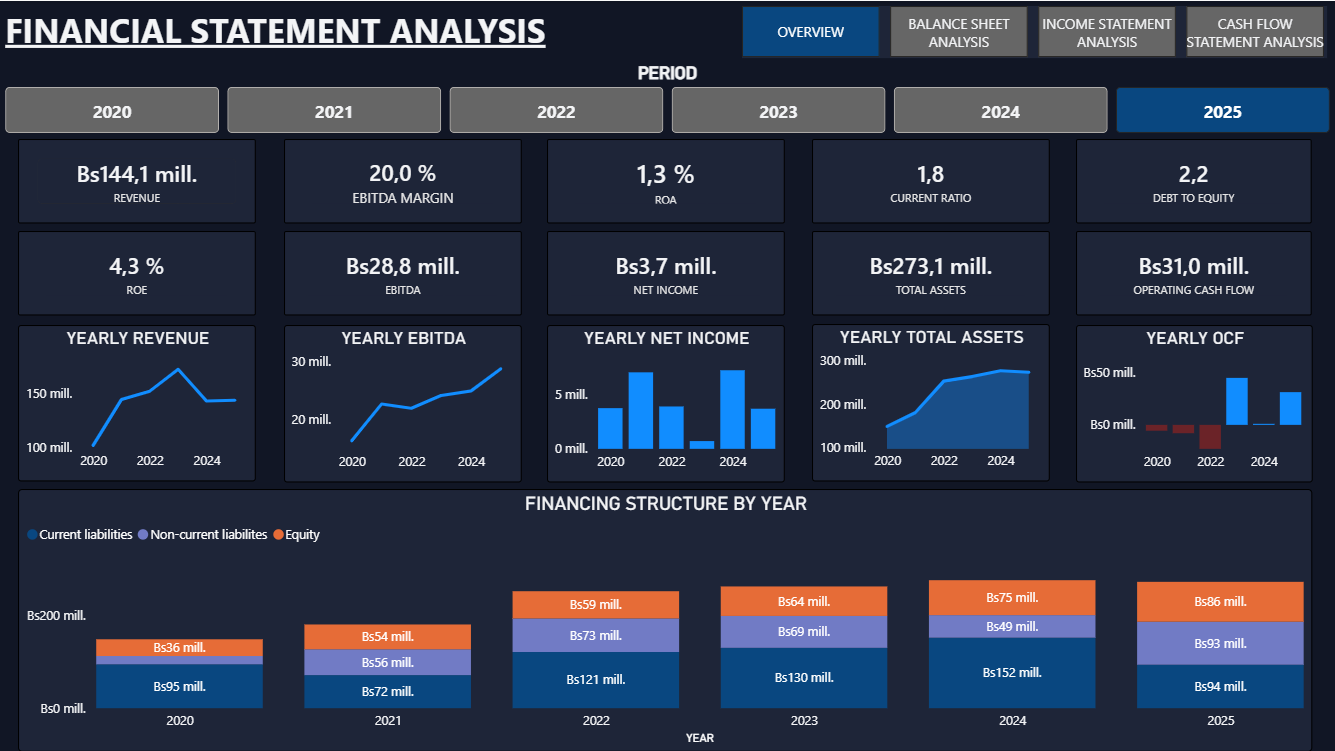

This screenshot's page, from the dashboard's own definition file:
{"tool":"powerbi","page":{"name":"OVERVIEW","canvas":[1280,720],"ordinal":0},"visuals":[{"type":"cardVisual","fields":{"Data":["MEDIDAS.IngresosOP"]},"box":[17.3,132.3,228.2,81.5],"z":0},{"type":"cardVisual","fields":{"Data":["MEDIDAS.EBITDA"]},"box":[272.3,220.5,228.2,81.5],"z":1000},{"type":"cardVisual","fields":{"Data":["MEDIDAS.Resultado Neto"]},"box":[524.5,220.5,228.2,81.5],"z":2000},{"type":"cardVisual","fields":{"Data":["MEDIDAS.Total Activo"]},"box":[778.5,220.5,228.2,81.5],"z":3000},{"type":"cardVisual","fields":{"Data":["DimCategoria.Operating cash flow"]},"box":[1031.7,220.5,226.3,81.5],"z":4000},{"type":"lineChart","title":"YEARLY REVENUE","fields":{"Category":["DimFecha.Año"],"Y":["MEDIDAS.IngresosOP"]},"box":[17.3,310.7,227.9,149.9],"z":5000},{"type":"lineChart","title":"YEARLY EBITDA","fields":{"Category":["DimFecha.Año"],"Y":["MEDIDAS.EBITDA"]},"box":[272.3,310.7,227.9,150.7],"z":6000},{"type":"clusteredColumnChart","title":"YEARLY NET INCOME","fields":{"Category":["DimFecha.Año"],"Y":["MEDIDAS.Resultado Neto"]},"box":[524.5,310.7,227.9,150.7],"z":7000},{"type":"areaChart","title":"YEARLY TOTAL ASSETS","fields":{"Category":["DimFecha.Año"],"Y":["MEDIDAS.Total Activo"]},"box":[778.5,309.7,227.9,150.7],"z":8000},{"type":"clusteredColumnChart","title":"YEARLY OCF","fields":{"Category":["DimFecha.Año"],"Y":["DimCategoria.Operating cash flow"]},"box":[1031.7,310.7,227,150.7],"z":9000},{"type":"columnChart","title":"FINANCING STRUCTURE BY YEAR","fields":{"Category":["DimFecha.Año"],"Y":["MEDIDAS.Current liabilities","MEDIDAS.Non-current liabilites","MEDIDAS.Equity"]},"box":[17.3,467.9,1240.7,252.2],"z":10000},{"type":"textbox","box":[0,0,532,58.5],"z":11000},{"type":"cardVisual","fields":{"Data":["MEDIDAS.Razón corriente"]},"box":[778.5,132.3,228.2,81.5],"z":12000},{"type":"cardVisual","fields":{"Data":["MEDIDAS.ROE"]},"box":[17.3,220.5,228.2,81.5],"z":13000},{"type":"cardVisual","fields":{"Data":["MEDIDAS.ROA"]},"box":[524.5,132.3,228.2,81.5],"z":14000},{"type":"cardVisual","fields":{"Data":["MEDIDAS.Margen EBITDA"]},"box":[272.3,132.3,228.2,81.5],"z":15000},{"type":"cardVisual","fields":{"Data":["MEDIDAS.Apalancamiento"]},"box":[1031.7,132.3,226.3,81.5],"z":16000},{"type":"advancedSlicerVisual","title":"PERIOD","fields":{"Values":["DimFecha.Año"]},"box":[0,58.8,1280,73.5],"z":17000},{"type":"pageNavigator","box":[711.4,4.8,560.9,49.9],"z":18000}]}

Visuals, with their boxes in screenshot pixels (x1, y1, x2, y2), scaled from the page's 1280x720 canvas onto the 1335x751 screenshot:
cardVisual - MEDIDAS.IngresosOP: BBox(18, 138, 256, 223)
cardVisual - MEDIDAS.EBITDA: BBox(284, 230, 522, 315)
cardVisual - MEDIDAS.Resultado Neto: BBox(547, 230, 785, 315)
cardVisual - MEDIDAS.Total Activo: BBox(812, 230, 1050, 315)
cardVisual - DimCategoria.Operating cash flow: BBox(1076, 230, 1312, 315)
"YEARLY REVENUE" lineChart: BBox(18, 324, 256, 480)
"YEARLY EBITDA" lineChart: BBox(284, 324, 522, 481)
"YEARLY NET INCOME" clusteredColumnChart: BBox(547, 324, 785, 481)
"YEARLY TOTAL ASSETS" areaChart: BBox(812, 323, 1050, 480)
"YEARLY OCF" clusteredColumnChart: BBox(1076, 324, 1313, 481)
"FINANCING STRUCTURE BY YEAR" columnChart: BBox(18, 488, 1312, 750)
textbox: BBox(0, 0, 555, 61)
cardVisual - MEDIDAS.Razón corriente: BBox(812, 138, 1050, 223)
cardVisual - MEDIDAS.ROE: BBox(18, 230, 256, 315)
cardVisual - MEDIDAS.ROA: BBox(547, 138, 785, 223)
cardVisual - MEDIDAS.Margen EBITDA: BBox(284, 138, 522, 223)
cardVisual - MEDIDAS.Apalancamiento: BBox(1076, 138, 1312, 223)
"PERIOD" advancedSlicerVisual: BBox(0, 61, 1334, 138)
pageNavigator: BBox(742, 5, 1327, 57)
